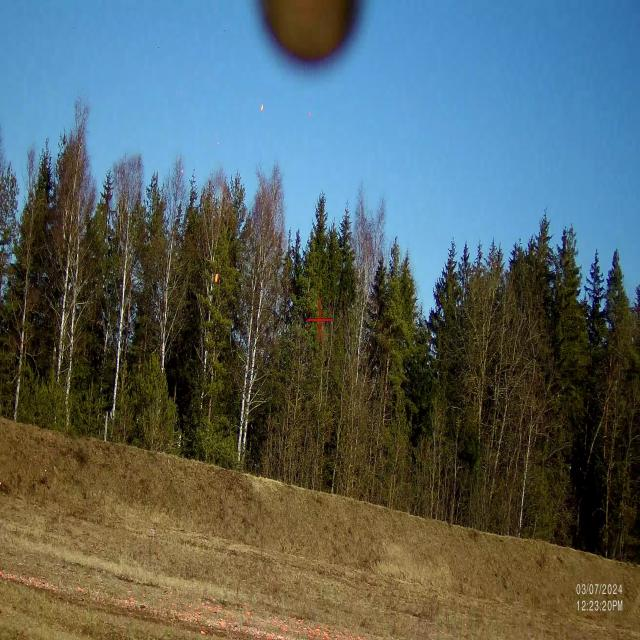broken: (173, 58, 339, 193)
